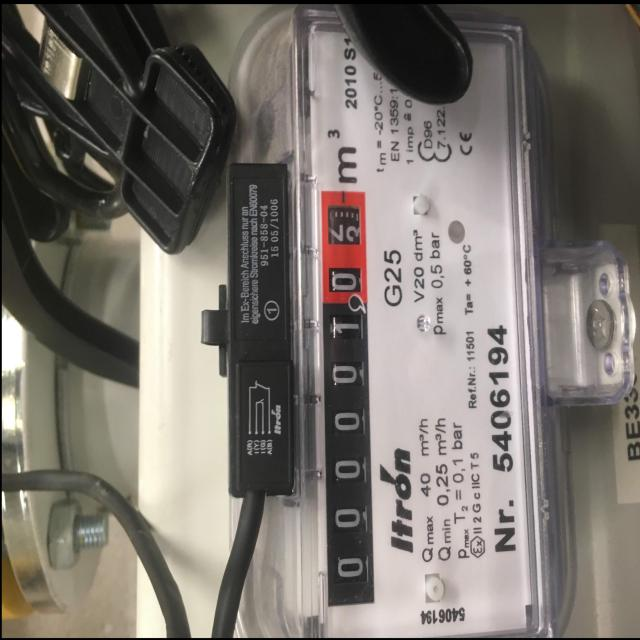gaz_meter: (298, 13, 546, 640)
indication: (318, 188, 376, 609), (322, 190, 375, 608)
